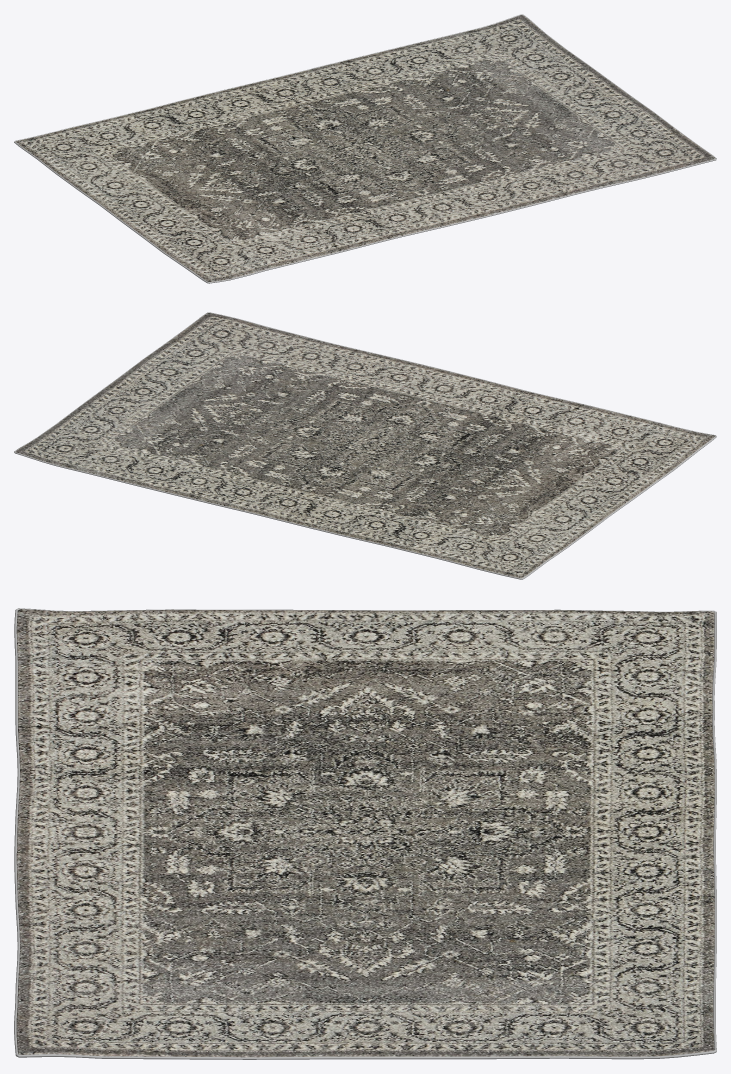
File: abo_B071777YN3.glb
3 renders of one model, top to bottom at view 1: azimuth 30°, elevation 25°; view 2: azimuth 150°, elevation 25°; view 3: azimuth 270°, elevation 25°, orthographic. The views are drawn at different scales.
Visible parts, largest first — view 1: RootNode; view 2: RootNode; view 3: RootNode.
Part boxes in pixels (x1,y1,x2,y2): RootNode: (14, 14, 716, 283); RootNode: (14, 312, 716, 579); RootNode: (14, 608, 716, 1059).
Bounding box in the file's own units: 1.83 × 0.0187 × 1.21.
1 material, 1 textured.
